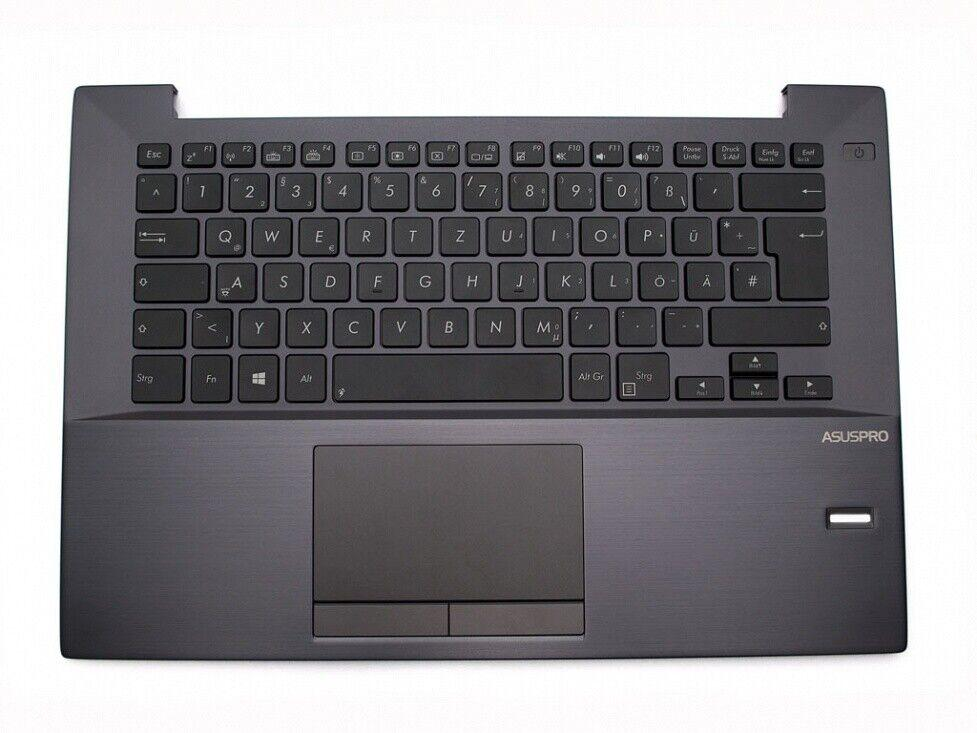0: (600, 169, 641, 209)
1: (180, 170, 222, 210)
2: (226, 170, 268, 210)
3: (273, 170, 315, 210)
4: (320, 170, 362, 209)
5: (367, 170, 409, 209)
6: (413, 170, 455, 209)
7: (460, 169, 502, 209)
8: (507, 170, 549, 209)
9: (553, 169, 595, 209)
a: (214, 260, 256, 301)
accent: (692, 170, 733, 209)
ae: (683, 258, 724, 300)
alt-left: (283, 352, 326, 403)
altgr-right: (568, 350, 611, 400)
b: (425, 305, 469, 346)
c: (330, 305, 374, 347)
caret: (134, 171, 175, 211)
comma: (567, 304, 610, 346)
d: (308, 259, 350, 301)
del: (738, 170, 824, 209)
e: (296, 214, 339, 255)
enter: (764, 214, 829, 301)
f: (355, 259, 397, 300)
g: (402, 259, 444, 301)
h: (449, 259, 491, 300)
hash: (729, 259, 772, 300)
i: (531, 214, 573, 254)
j: (496, 258, 538, 300)
k: (543, 258, 585, 300)
keyboard: (118, 128, 849, 415)
l: (590, 258, 632, 300)
less: (189, 305, 232, 347)
m: (519, 304, 564, 347)
minus: (660, 305, 703, 345)
n: (472, 304, 516, 346)
o: (578, 214, 619, 254)
oe: (637, 259, 678, 300)
p: (625, 214, 666, 254)
plus: (716, 214, 757, 255)
point: (614, 304, 656, 345)
q: (202, 214, 246, 256)
r: (344, 214, 386, 255)
s: (261, 260, 303, 301)
shift-left: (129, 306, 185, 348)
shift-lock: (131, 261, 210, 302)
shift-right: (707, 304, 830, 345)
space: (332, 350, 563, 401)
ss: (646, 170, 687, 209)
strg-left: (127, 352, 185, 403)
strg-right: (615, 350, 671, 400)
t: (391, 214, 432, 254)
tab: (132, 215, 198, 257)
u: (484, 213, 527, 255)
ue: (671, 214, 712, 255)
v: (378, 304, 421, 347)
w: (249, 214, 292, 255)
x: (284, 305, 327, 347)
y: (236, 306, 279, 347)
z: (437, 214, 479, 255)
